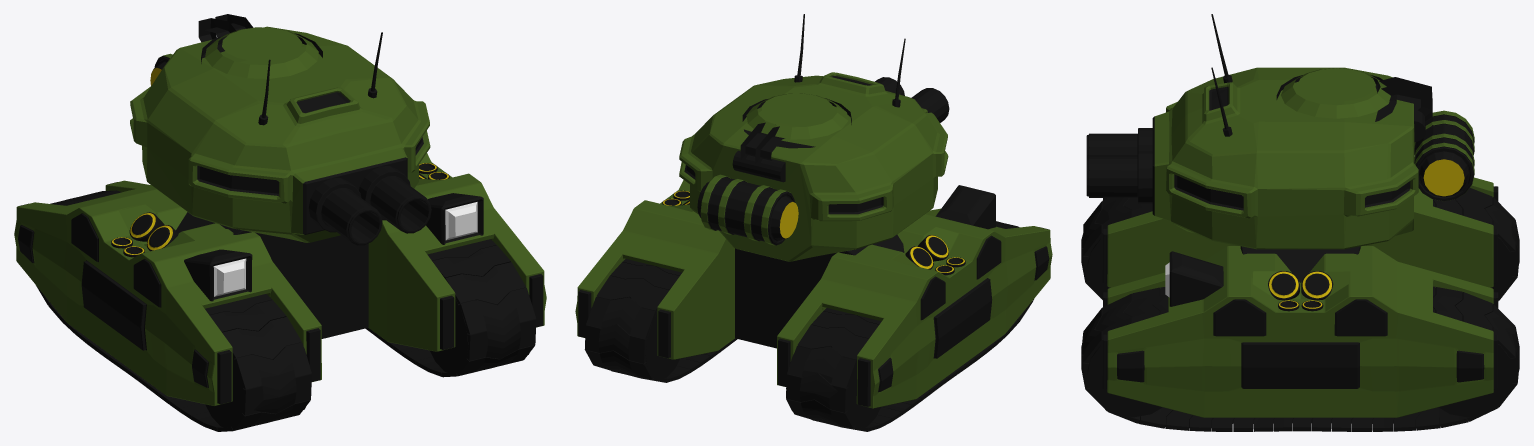
Rendered from tank_3_green.fbx.
The picture shows the model from 3 angles, left to right: view 1: azimuth 30°, elevation 25°; view 2: azimuth 150°, elevation 25°; view 3: azimuth 270°, elevation 25°; orthographic projection. The views are drawn at different scales.
Parts seen in each view (by area): view 1: Drives.005, Turret.020, Tracks.019, Base.020, Canon.020, Entrance.020, Lights.011, Wheels.037, Details.014, Antennas.006; view 2: Drives.005, Turret.020, Tracks.019, Base.020, Entrance.020, GasTank.005, Wheels.037, Lights.011, Details.014, Canon.020, Antennas.006; view 3: Drives.005, Turret.020, Tracks.019, Entrance.020, Wheels.037, GasTank.005, Canon.020, Lights.011, Details.014, Base.020, Antennas.006.
Boxes of the visible parts, left/top/right/bottom form: Drives.005: left=14, top=153, right=546, bottom=405; Turret.020: left=130, top=26, right=430, bottom=242; Tracks.019: left=36, top=190, right=536, bottom=431; Base.020: left=176, top=212, right=368, bottom=338; Canon.020: left=308, top=166, right=431, bottom=245; Entrance.020: left=198, top=14, right=322, bottom=78; Lights.011: left=184, top=193, right=483, bottom=301; Wheels.037: left=205, top=287, right=529, bottom=427; Details.014: left=111, top=163, right=449, bottom=257; Antennas.006: left=258, top=32, right=382, bottom=125; Drives.005: left=575, top=180, right=1052, bottom=408; Turret.020: left=679, top=72, right=948, bottom=261; Tracks.019: left=584, top=221, right=1033, bottom=431; Base.020: left=735, top=234, right=904, bottom=348; Entrance.020: left=732, top=93, right=851, bottom=182; GasTank.005: left=697, top=174, right=798, bottom=245; Wheels.037: left=591, top=298, right=881, bottom=427; Lights.011: left=935, top=185, right=995, bottom=229; Details.014: left=662, top=190, right=965, bottom=275; Canon.020: left=875, top=77, right=949, bottom=122; Antennas.006: left=794, top=14, right=905, bottom=107; Drives.005: left=1102, top=177, right=1498, bottom=417; Turret.020: left=1152, top=67, right=1418, bottom=249; Tracks.019: left=1081, top=188, right=1519, bottom=431; Entrance.020: left=1276, top=68, right=1432, bottom=141; Wheels.037: left=1087, top=237, right=1513, bottom=417; GasTank.005: left=1414, top=110, right=1474, bottom=201; Canon.020: left=1086, top=128, right=1152, bottom=203; Lights.011: left=1165, top=251, right=1223, bottom=306; Details.014: left=1268, top=271, right=1333, bottom=311; Base.020: left=1240, top=246, right=1360, bottom=282; Antennas.006: left=1211, top=14, right=1232, bottom=136.
Bounding box in the file's own units: 187 × 174 × 214.
